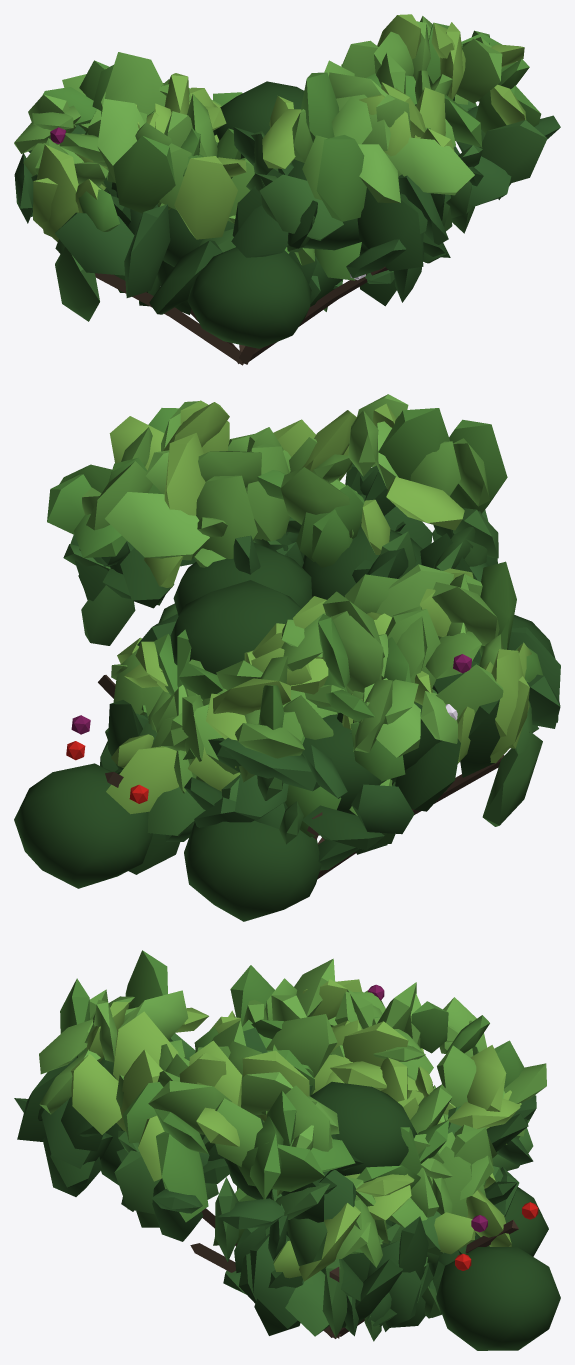
The model's file is bush_round.glb.
3 views of the same model, one above another, from view 1: azimuth 30°, elevation 25°; view 2: azimuth 150°, elevation 25°; view 3: azimuth 270°, elevation 25° (orthographic). The views are drawn at different scales.
Parts seen in each view (by area): view 1: bush_round; view 2: bush_round; view 3: bush_round.
Part boxes in pixels (bbox=[...]): bush_round: bbox=[14, 14, 560, 365]; bush_round: bbox=[14, 394, 560, 921]; bush_round: bbox=[14, 950, 560, 1350].
Bounding box in the file's own units: 1.65 × 1.27 × 1.69.
